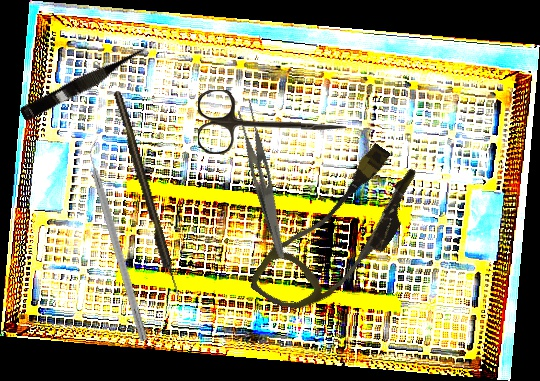Cannula: (246, 129, 432, 338)
Chopper: (82, 135, 159, 342)
Dressing Forceps: (228, 97, 302, 260)
Hook Surgical: (112, 89, 182, 300)
Iris Scissors: (197, 89, 347, 157)
Micro Scissor: (19, 41, 153, 125)
